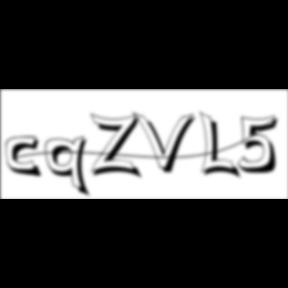5: (238, 114, 284, 176)
L: (200, 110, 244, 182)
V: (132, 110, 199, 176)
Z: (90, 112, 145, 181)
c: (6, 136, 46, 180)
q: (46, 135, 94, 200)
